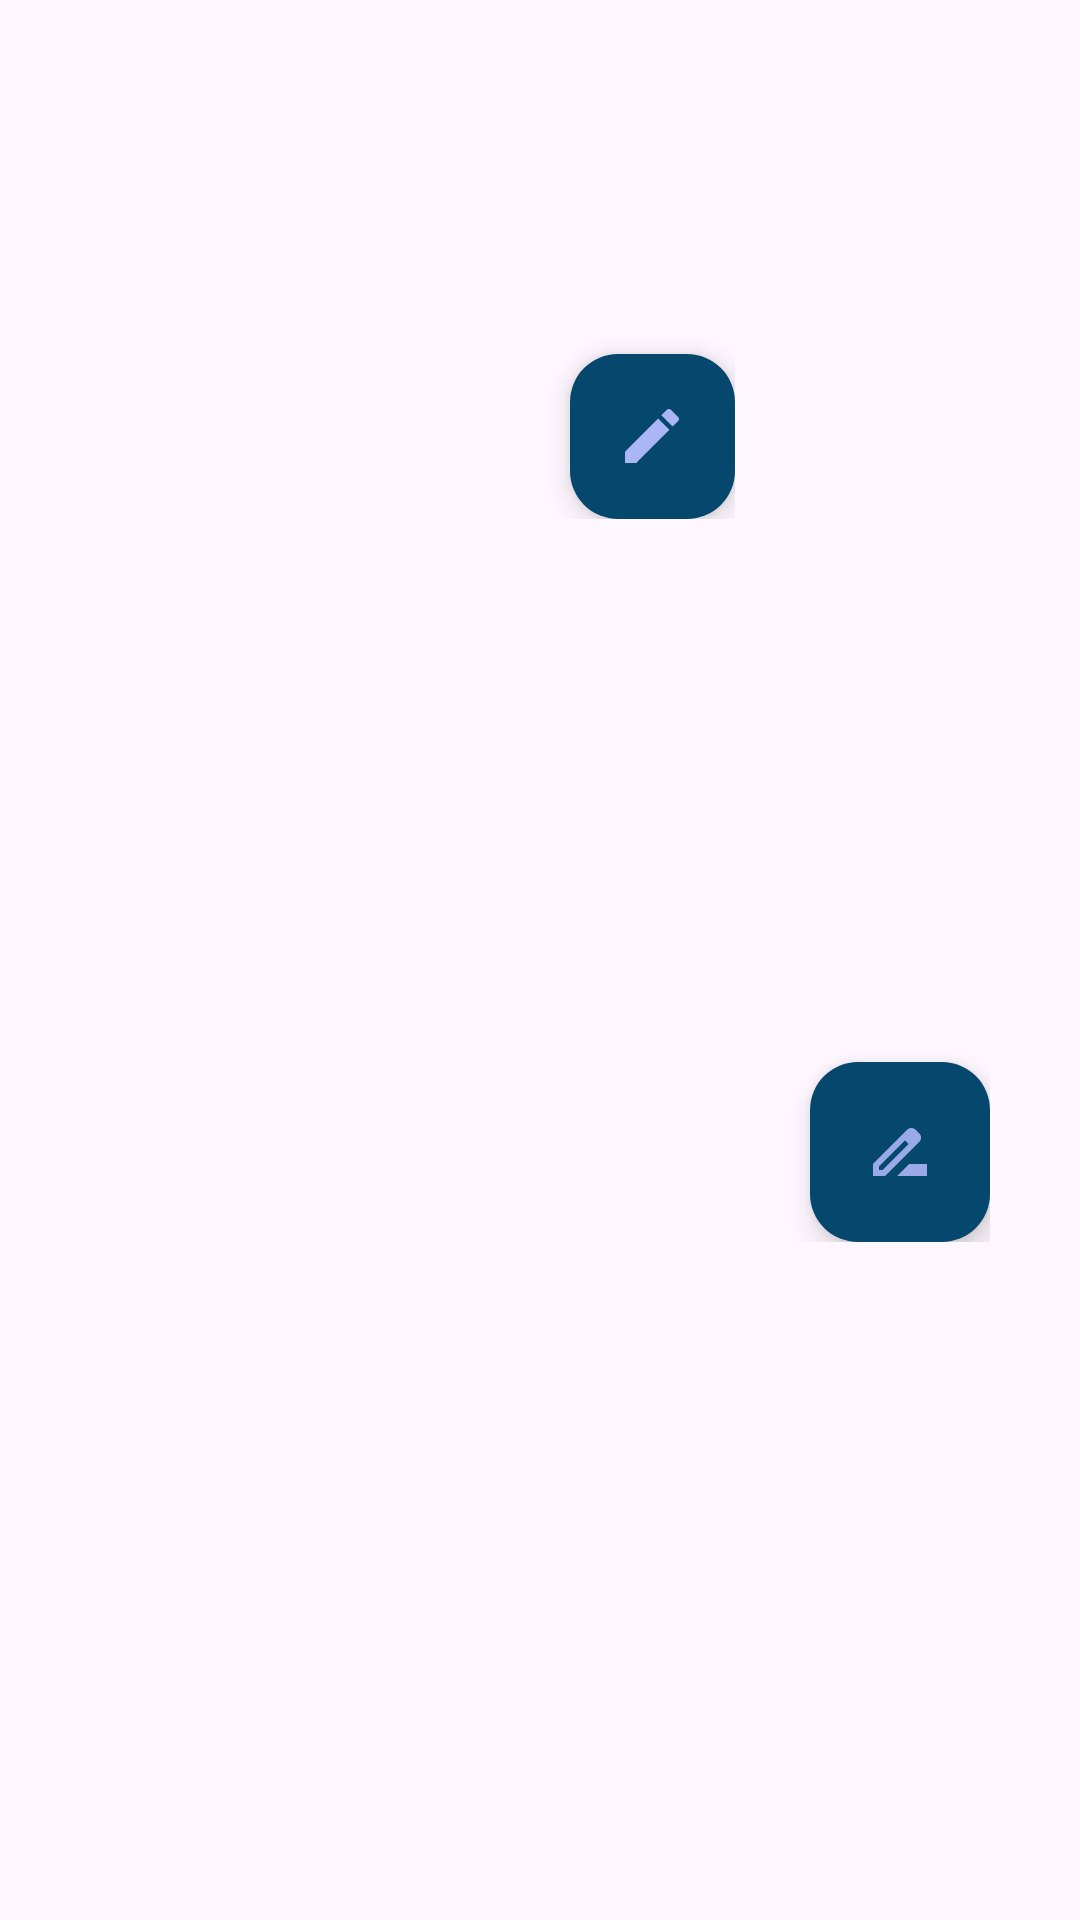

Screen size 1080×1920. Icon name, then its box in pixels as BBox(x1, y1, x2, y2):
Editar avatar: BBox(570, 354, 735, 519)
Editar datos: BBox(810, 1062, 990, 1242)
